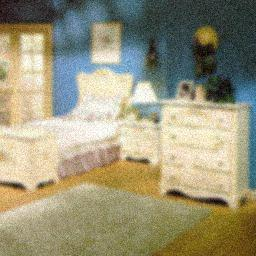Armario: (163, 105, 244, 209)
